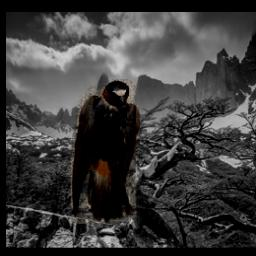Swallow: (71, 80, 140, 225)
